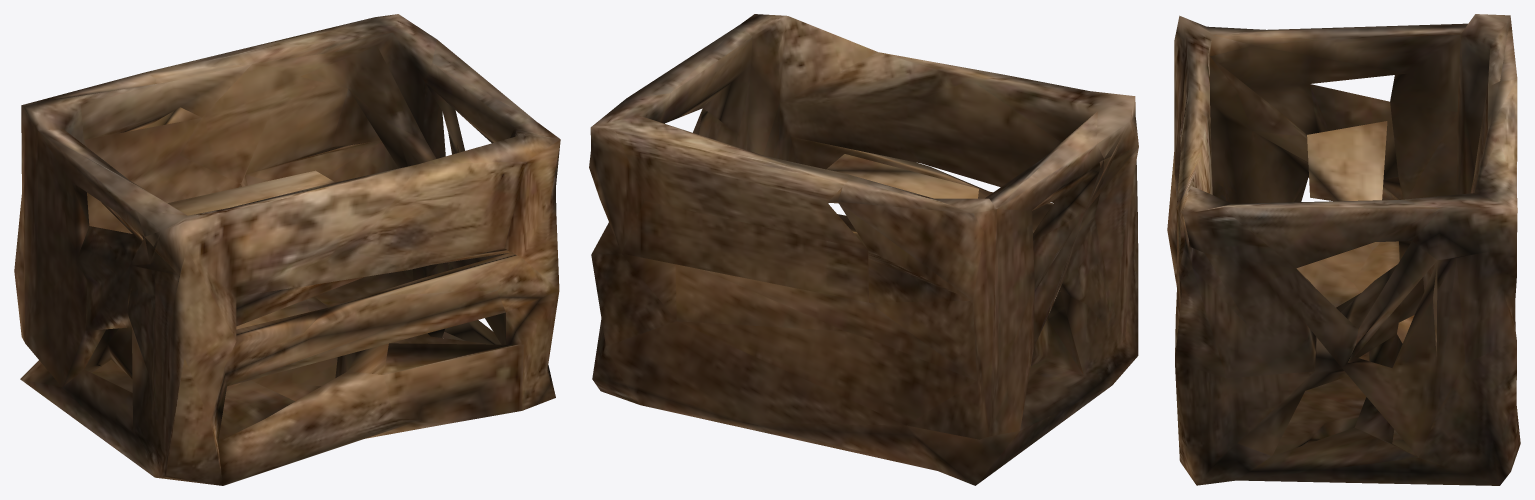
File: e_crate.glb
3 renders of one model, left to right at view 1: azimuth 30°, elevation 25°; view 2: azimuth 150°, elevation 25°; view 3: azimuth 270°, elevation 25°, orthographic. The views are drawn at different scales.
Visible parts, largest first — view 1: tripo_node_e0022871-d5aa-47e4-9162-438a49064a94; view 2: tripo_node_e0022871-d5aa-47e4-9162-438a49064a94; view 3: tripo_node_e0022871-d5aa-47e4-9162-438a49064a94.
Boxes of the visible parts, x1,y1,x2,y2 form: tripo_node_e0022871-d5aa-47e4-9162-438a49064a94: (14, 14, 560, 485); tripo_node_e0022871-d5aa-47e4-9162-438a49064a94: (589, 14, 1138, 485); tripo_node_e0022871-d5aa-47e4-9162-438a49064a94: (1167, 14, 1520, 485).
Bounding box in the file's own units: 1 × 0.671 × 0.7581.
Materials: 1 (1 with a texture image).
